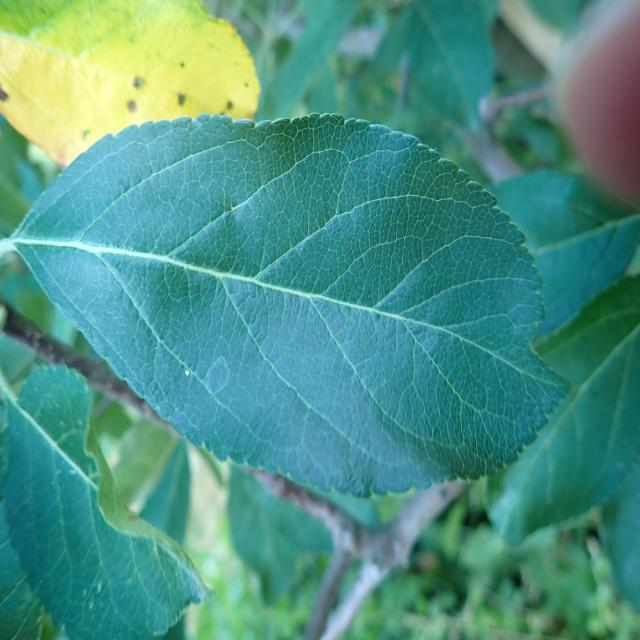healthy: (17, 112, 573, 498), (0, 362, 214, 640), (0, 0, 262, 171), (482, 275, 640, 548), (528, 214, 640, 341)
